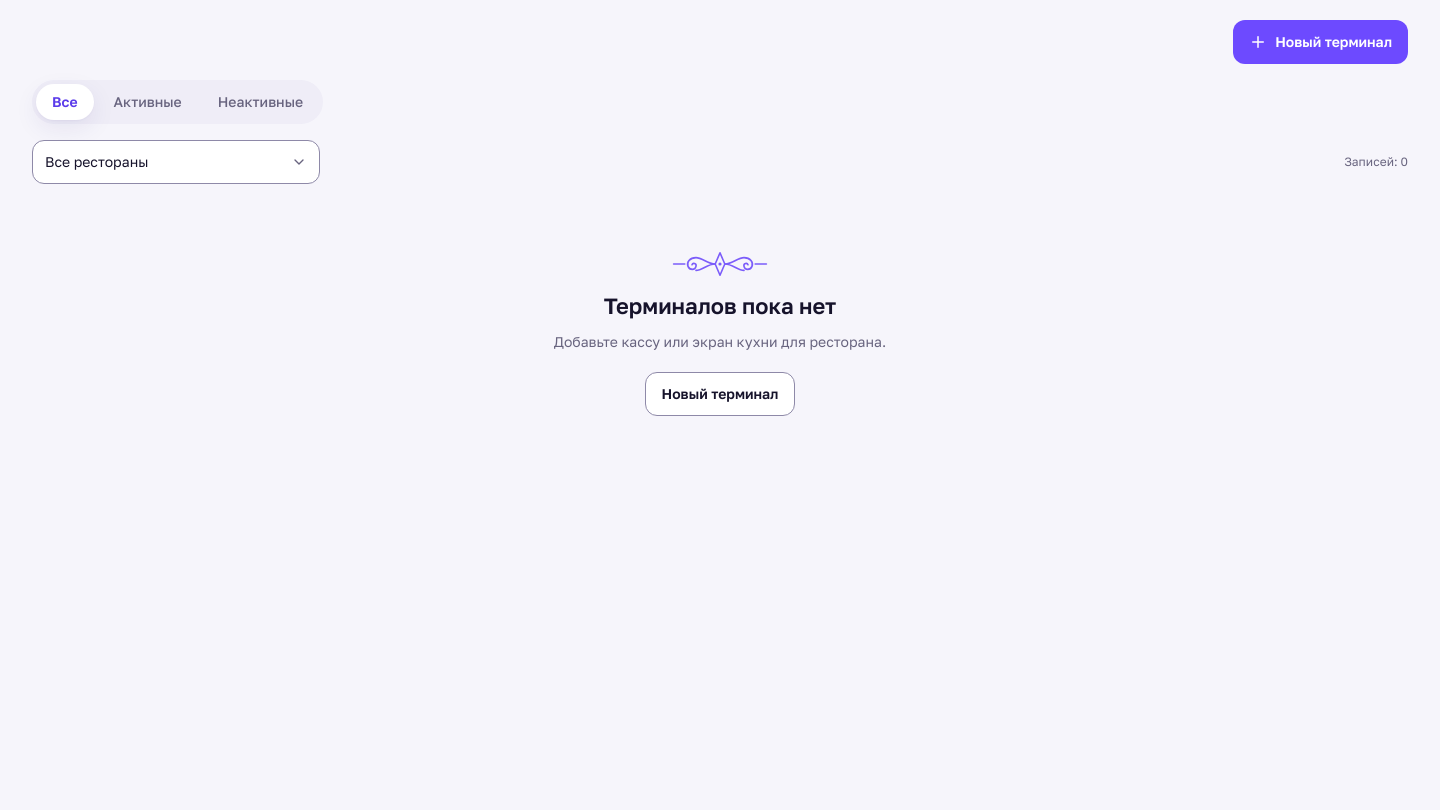
Test: «Терминалы» (W1-ADM-02) › «Новый терминал» saves with the right args
Step 1. Click the 1st button "Новый терминал" → (1321, 42), box [1233,20,1408,64]
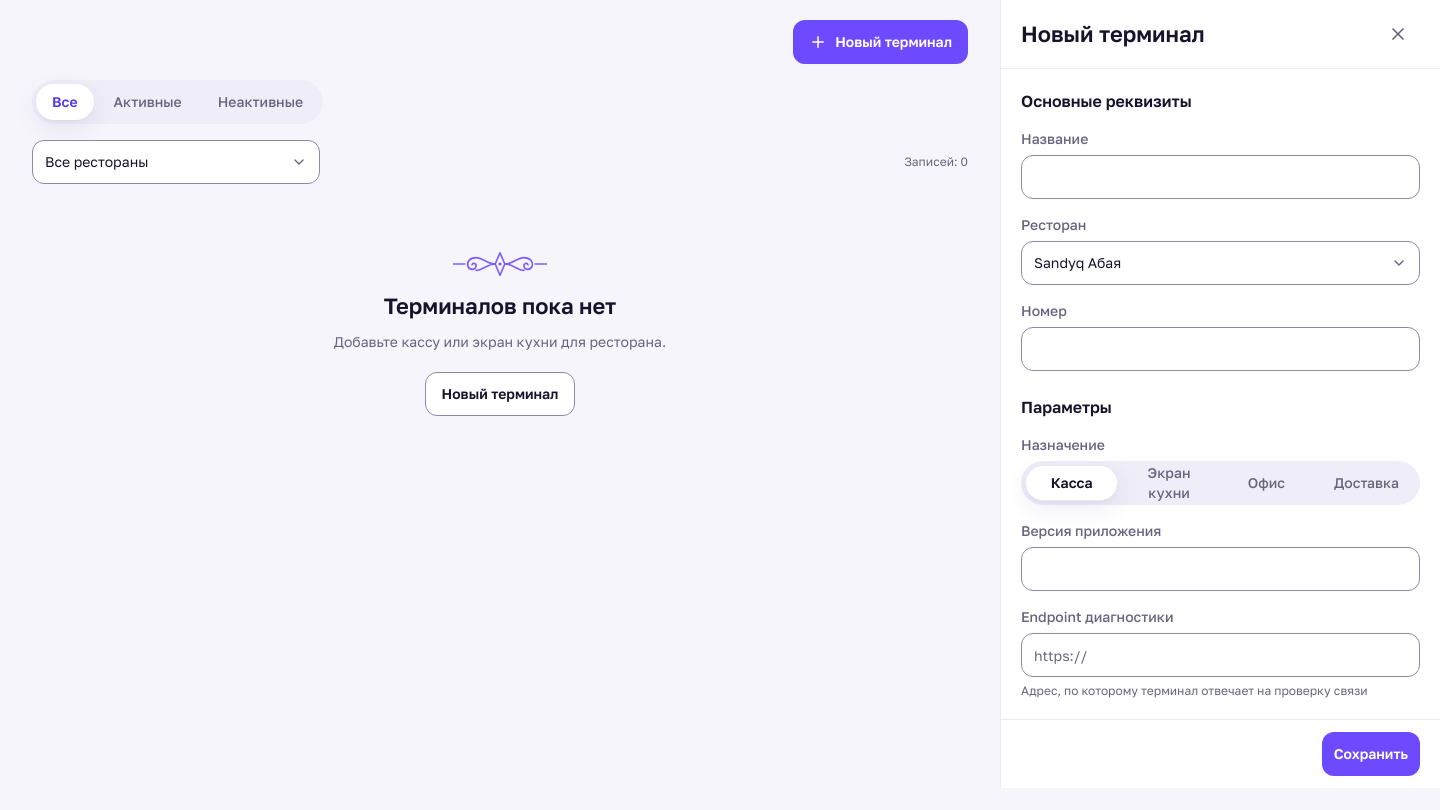
Step 2. Type "  Касса 2 " into the field labelled "Название" → (1220, 177), box [1021,155,1420,199]
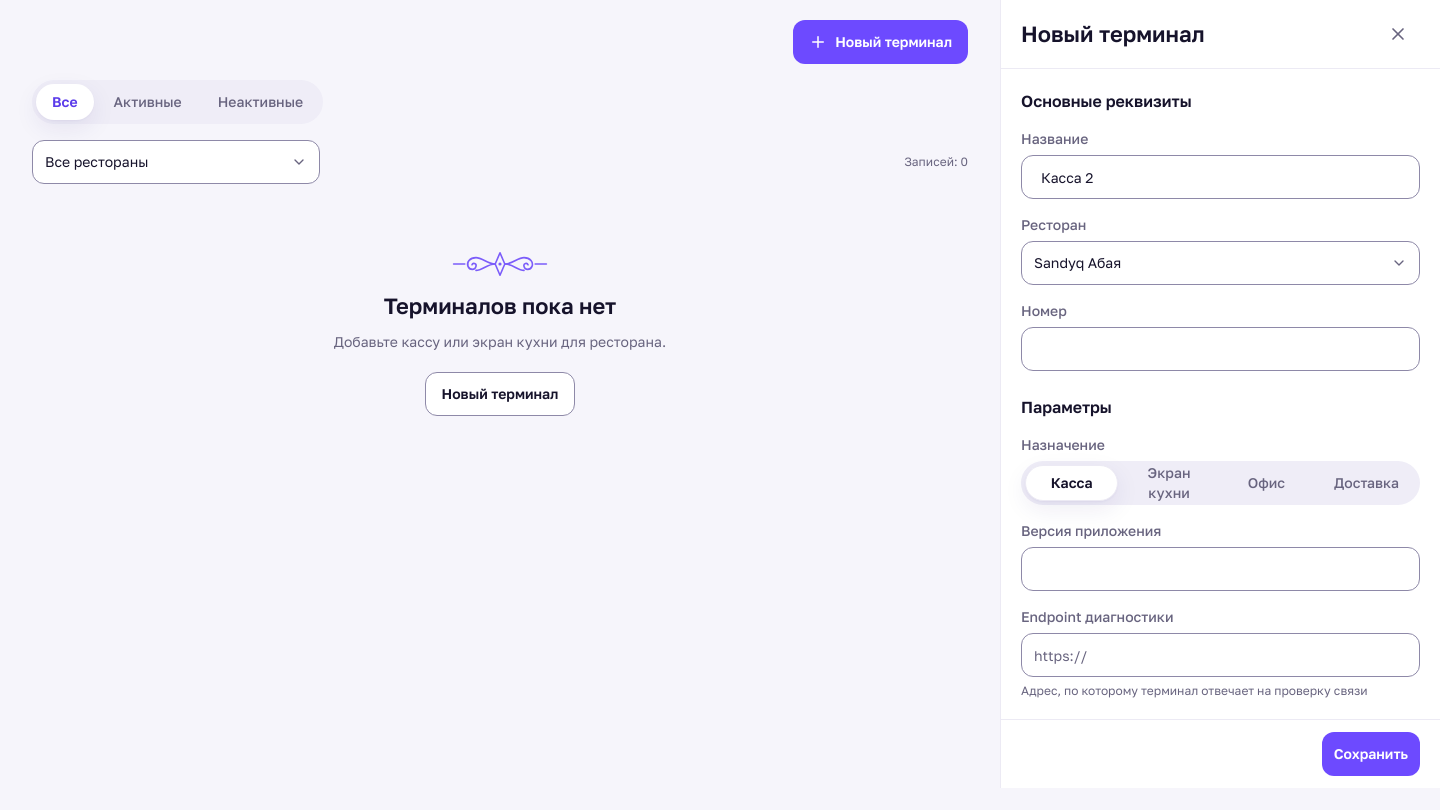
Step 3. Type "2" into the number field labelled "Номер" → (1220, 349), box [1021,327,1420,371]
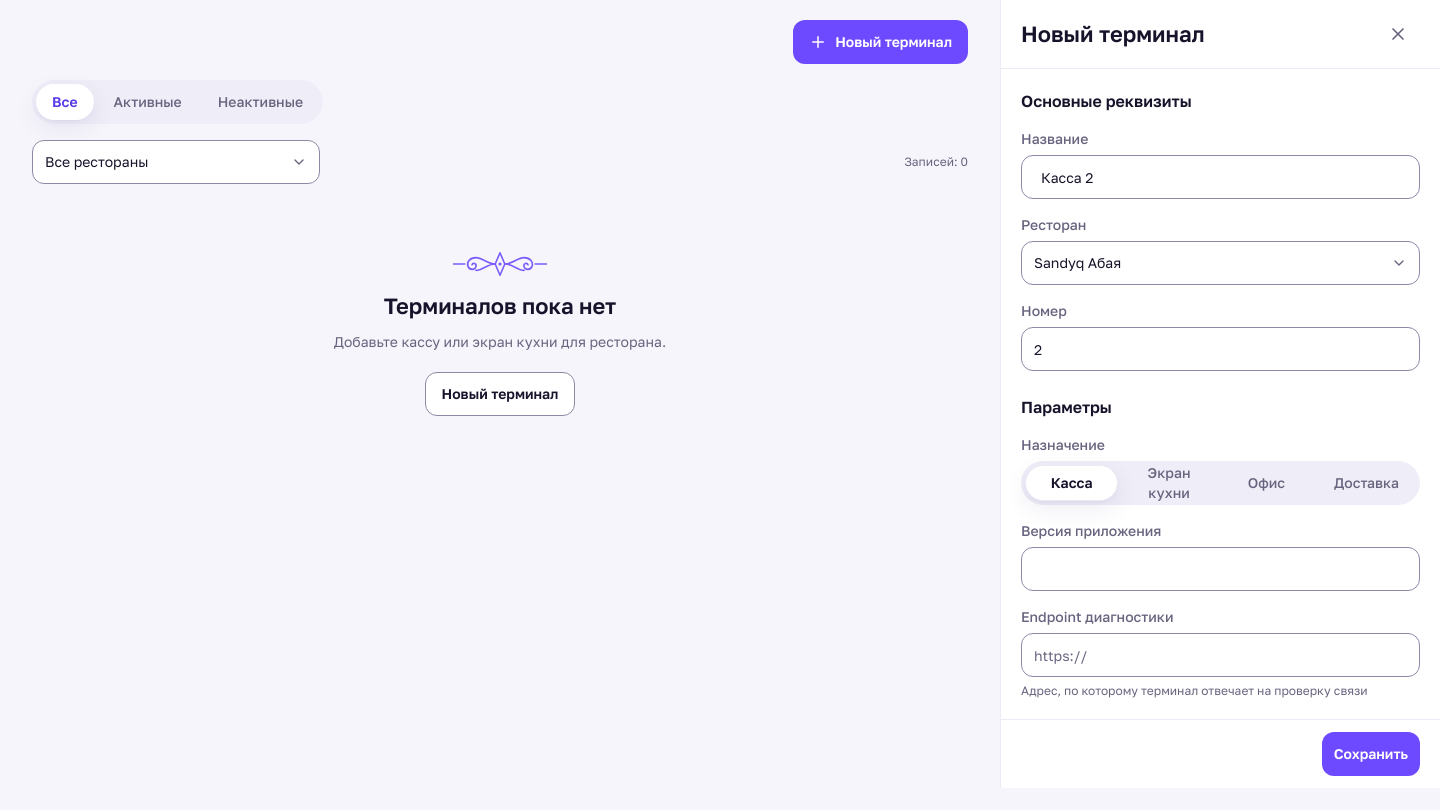
Step 4. Click the radio button labelled "Экран кухни" → (1169, 483), box [1122,465,1216,501]
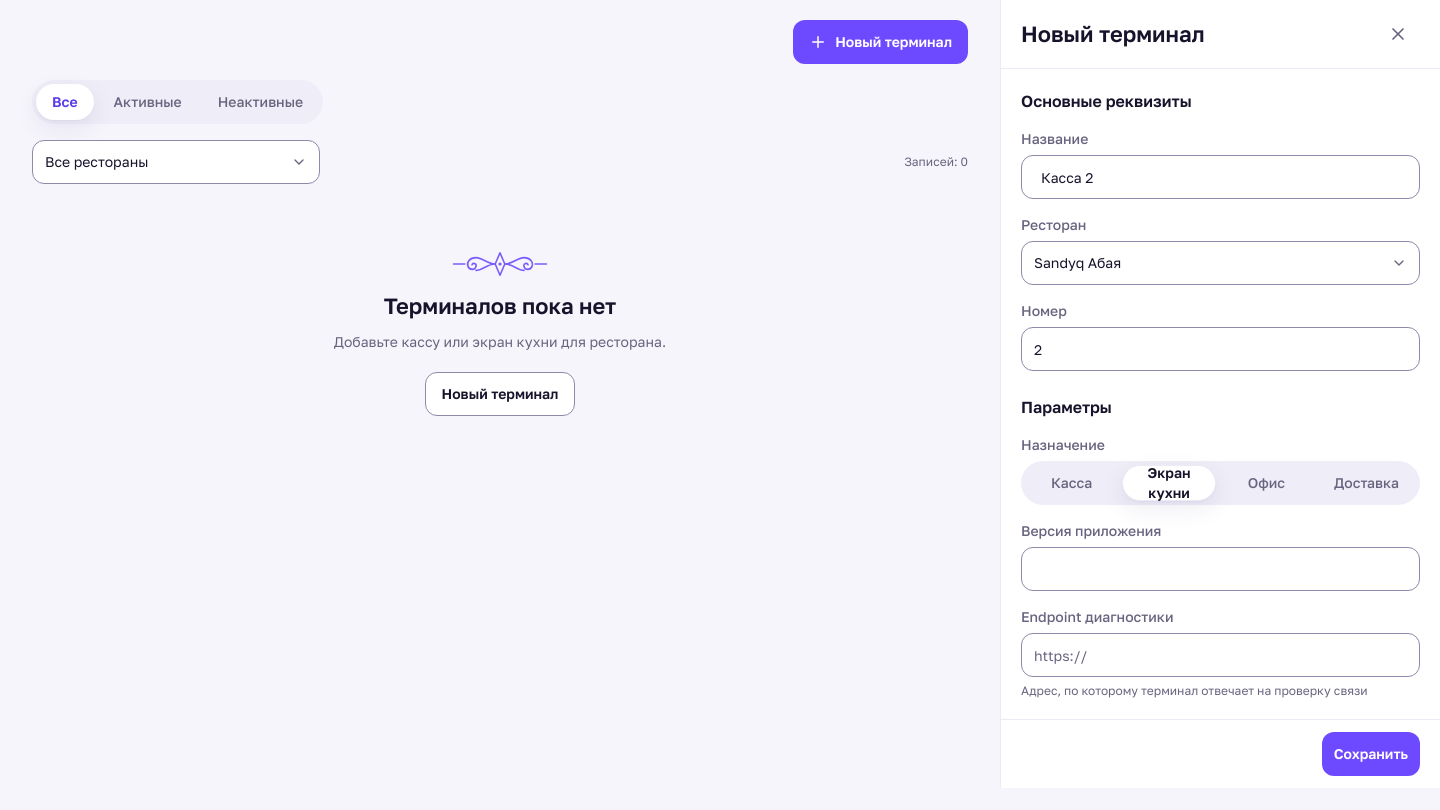
Step 5. Type "1.4.0" into the field labelled "Версия приложения" → (1220, 569), box [1021,547,1420,591]
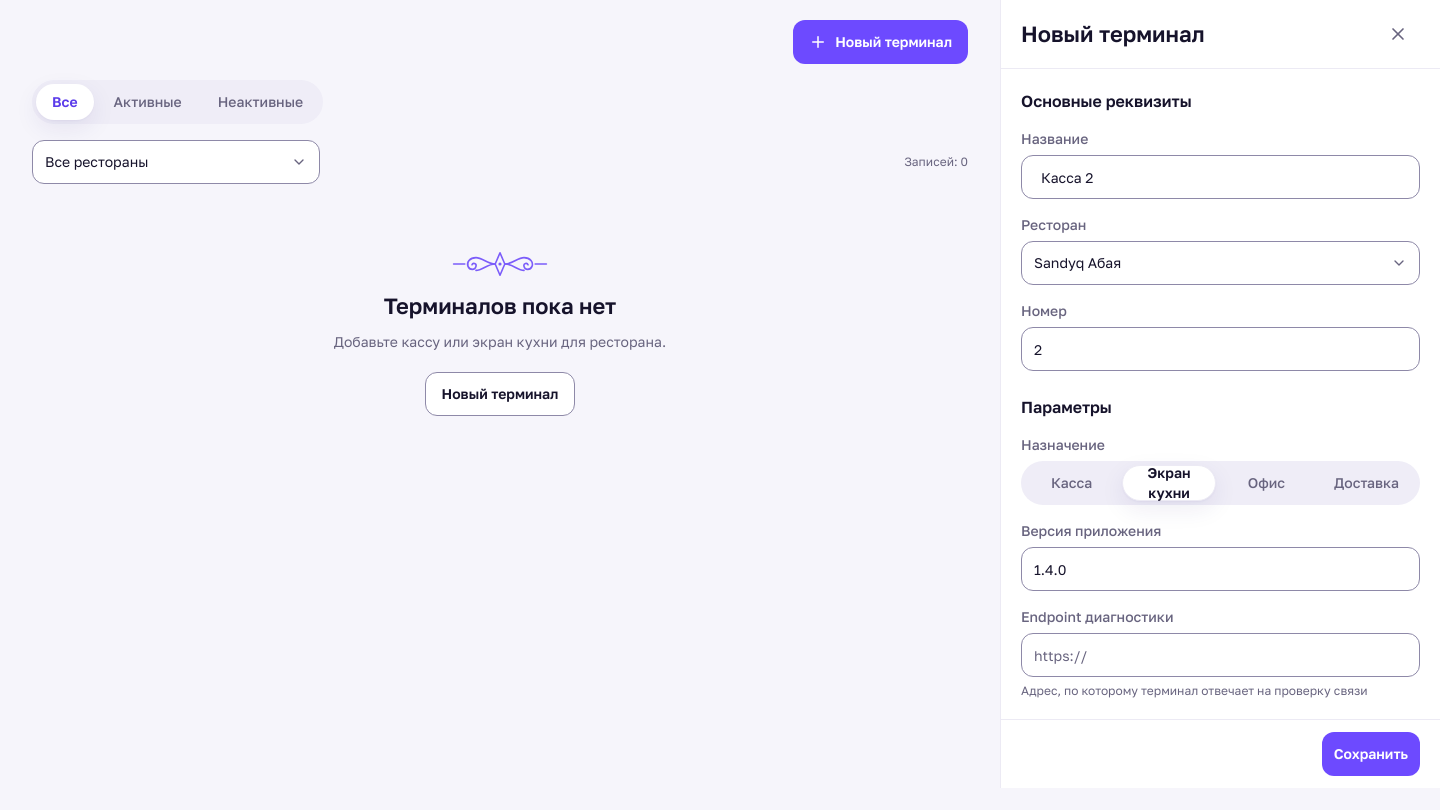
Step 6. Click the button "Сохранить" → (1371, 754), box [1322,732,1420,776]
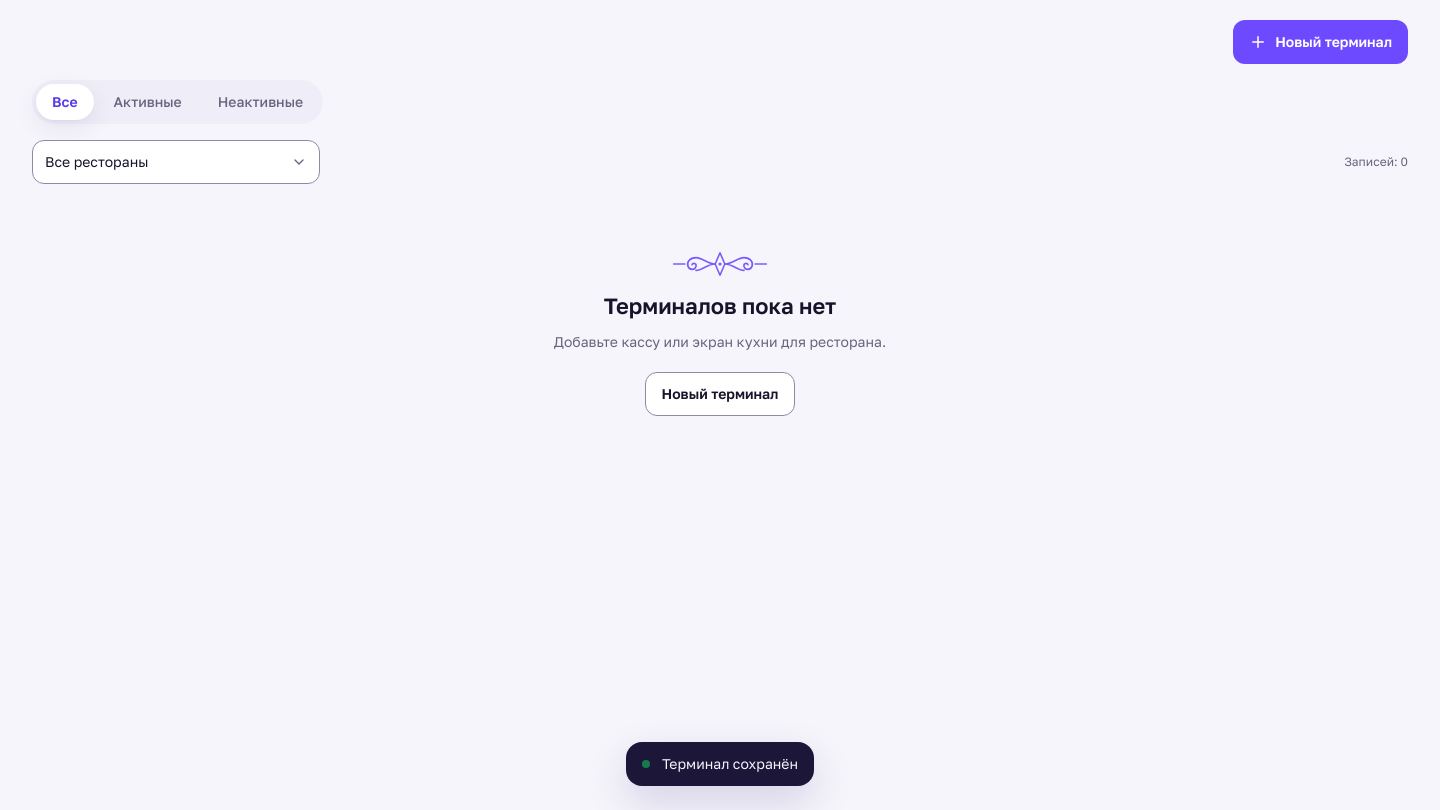
Expected: the text "Терминал сохранён" is shown, [626,742,814,786]
